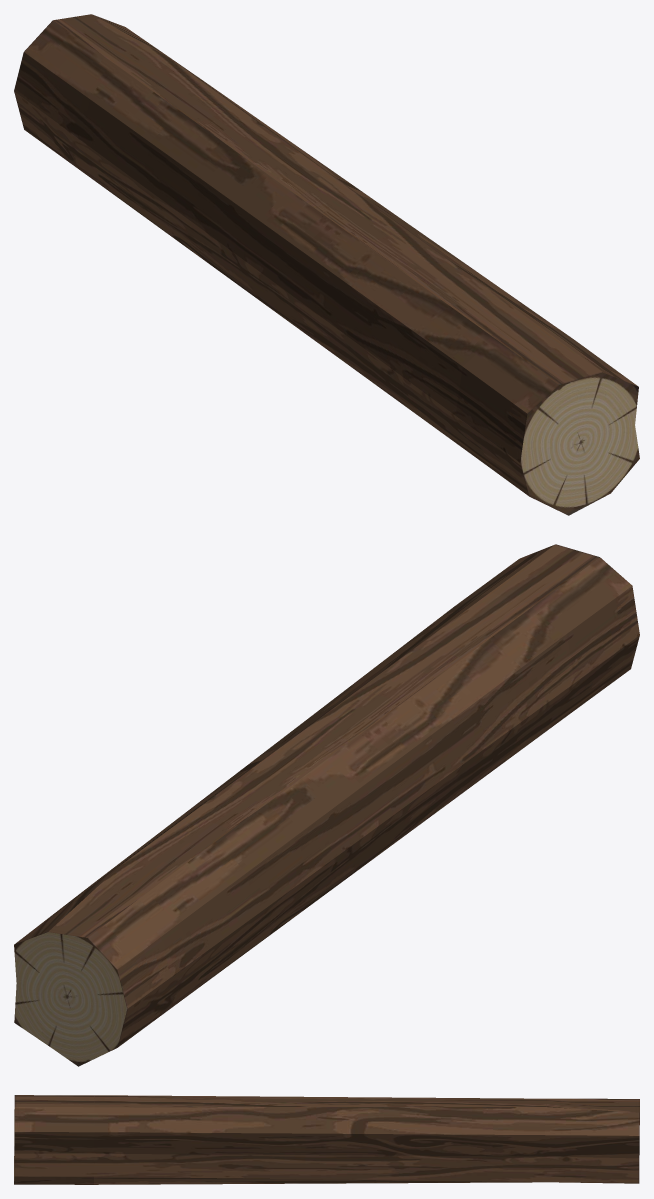
Rendered from Log horizontal.fbx.
The picture shows the model from 3 angles, top to bottom: view 1: azimuth 30°, elevation 25°; view 2: azimuth 150°, elevation 25°; view 3: azimuth 270°, elevation 25°; orthographic projection. The views are drawn at different scales.
Visible parts, largest first — view 1: pCylinder3; view 2: pCylinder3; view 3: pCylinder3.
Part boxes in pixels (x1,y1,x2,y2): pCylinder3: [14, 14, 639, 515]; pCylinder3: [14, 544, 639, 1066]; pCylinder3: [14, 1095, 639, 1184].
Size of the model in its own units: 1.66 by 1.82 by 12.15.
Materials: 1 (1 with a texture image).
